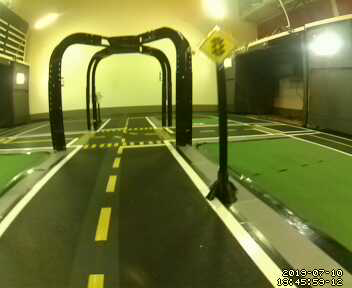Traffic light sign: (200, 25, 234, 67)
